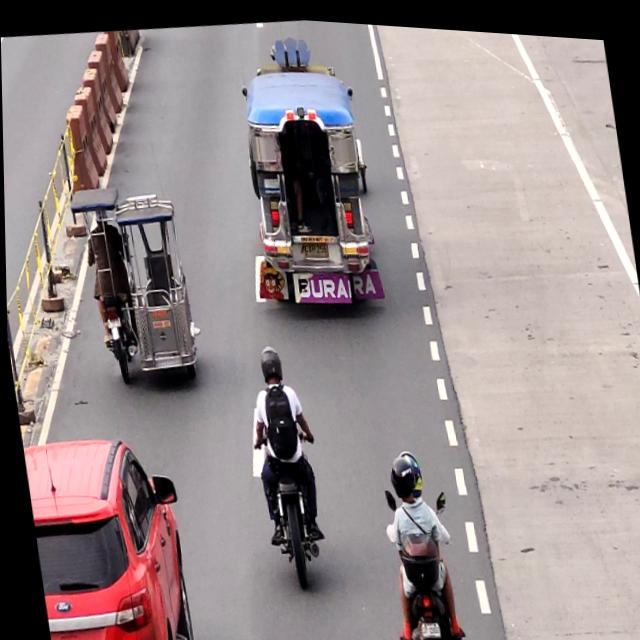Car: (19, 420, 197, 640)
License-Plate: (298, 231, 329, 257), (414, 612, 440, 635)
Motorcycle: (238, 337, 329, 596), (374, 436, 461, 640)
Tricycle: (65, 171, 200, 392)
Truck: (234, 31, 379, 314)
